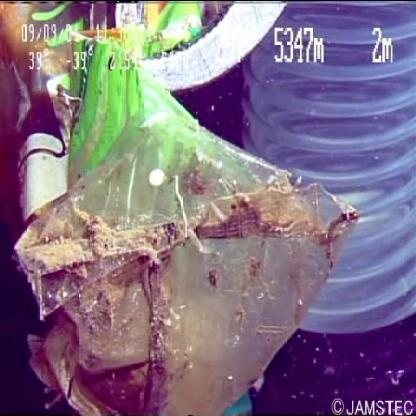Rác: (9, 6, 372, 415)
